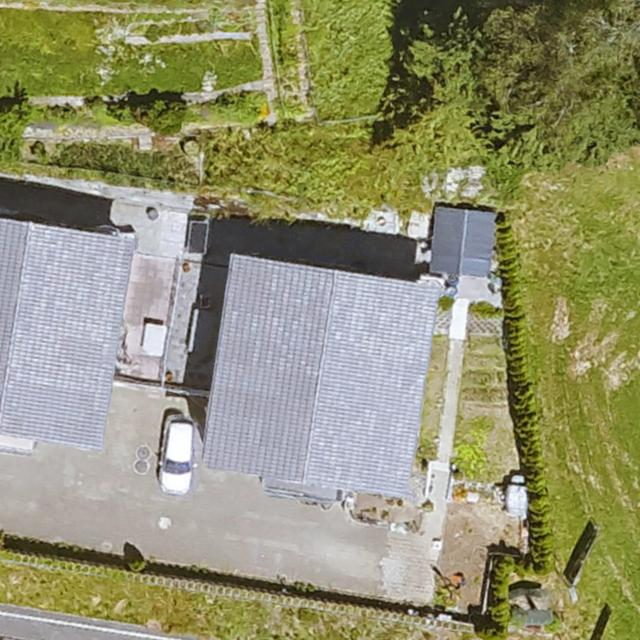tree: (485, 0, 640, 159), (392, 80, 489, 159), (402, 8, 485, 90), (487, 109, 547, 164)
